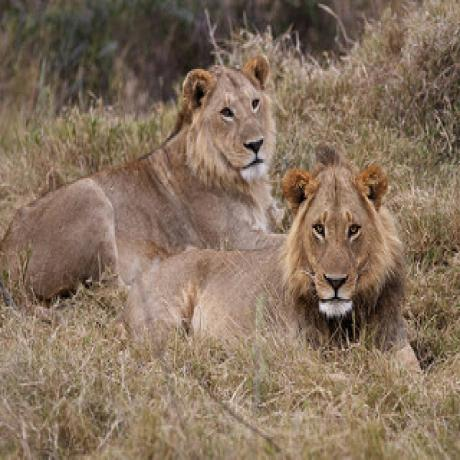Lion: (128, 162, 418, 394), (7, 54, 284, 293)
